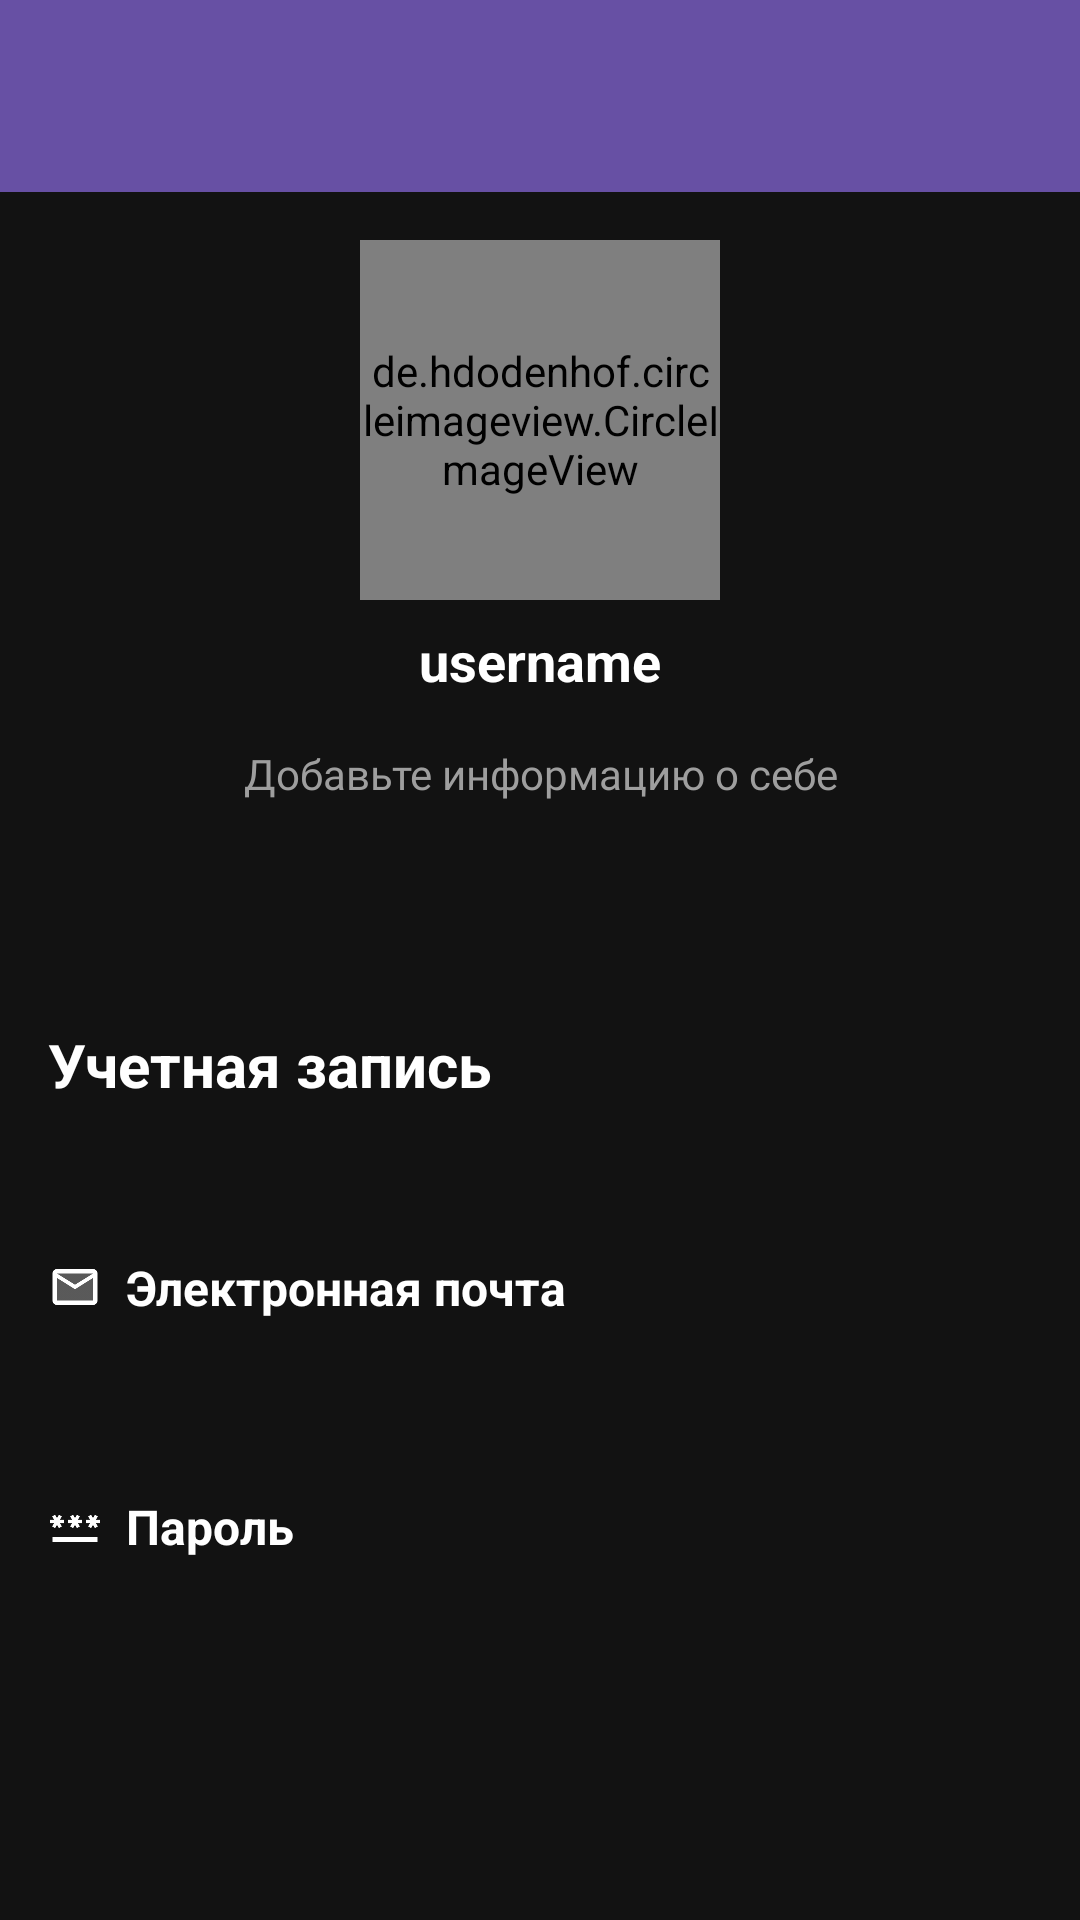

Where icons sit on this 1080w x 1920h app screen, as [x1,y1,x2,y2]:
email twotone: [52,1269,98,1305]
password twotone: [50,1515,100,1542]
